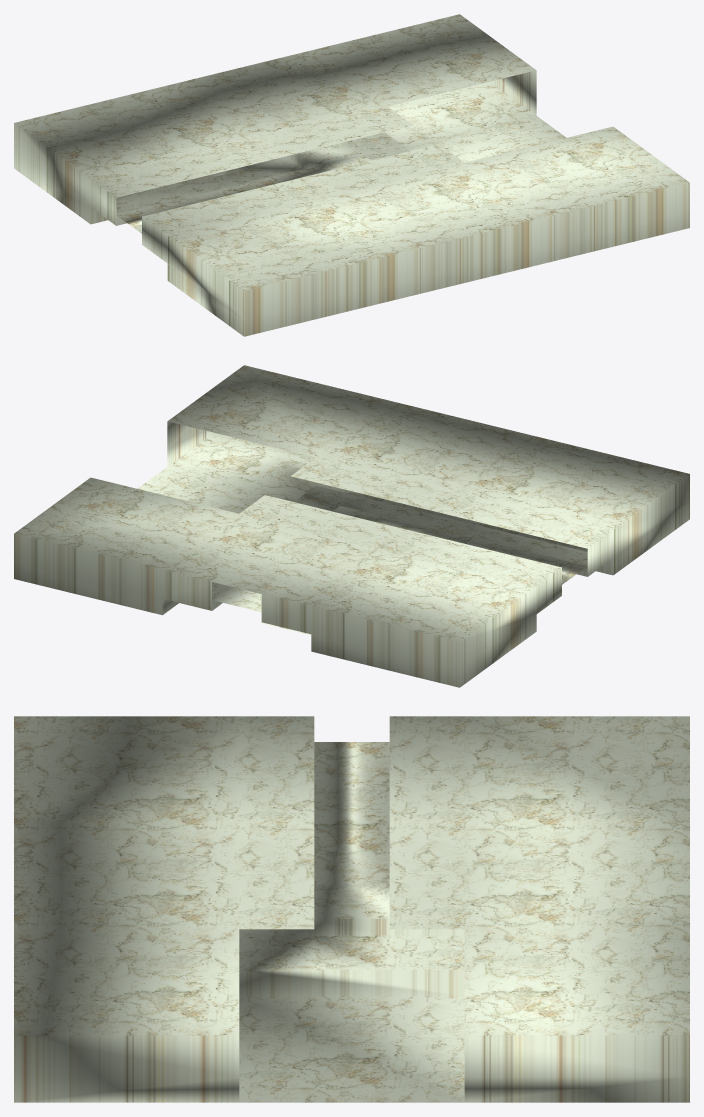
Rendered from roof turn.glb.
The picture shows the model from 3 angles, top to bottom: view 1: azimuth 30°, elevation 25°; view 2: azimuth 150°, elevation 25°; view 3: azimuth 270°, elevation 25°; orthographic projection. The views are drawn at different scales.
Visible parts, largest first — view 1: Cube.005; view 2: Cube.005; view 3: Cube.005.
Boxes of the visible parts, box(x1,y1,x2,y2) form: Cube.005: box(14, 14, 689, 336); Cube.005: box(14, 365, 689, 687); Cube.005: box(14, 716, 689, 1102).
Bounding box in the file's own units: 3.32 × 0.3229 × 2.97.
1 material, 1 textured.
